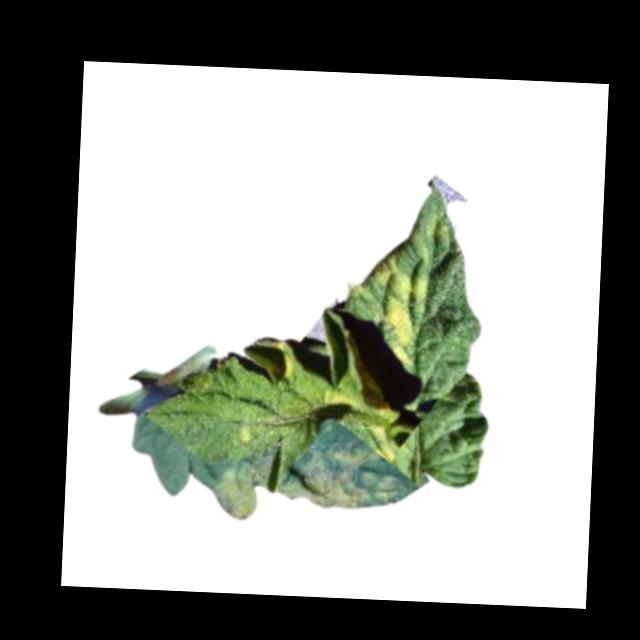Leaf_Mold: (212, 441, 401, 525), (367, 253, 435, 363), (327, 360, 399, 462), (240, 335, 297, 383), (233, 418, 255, 444)
